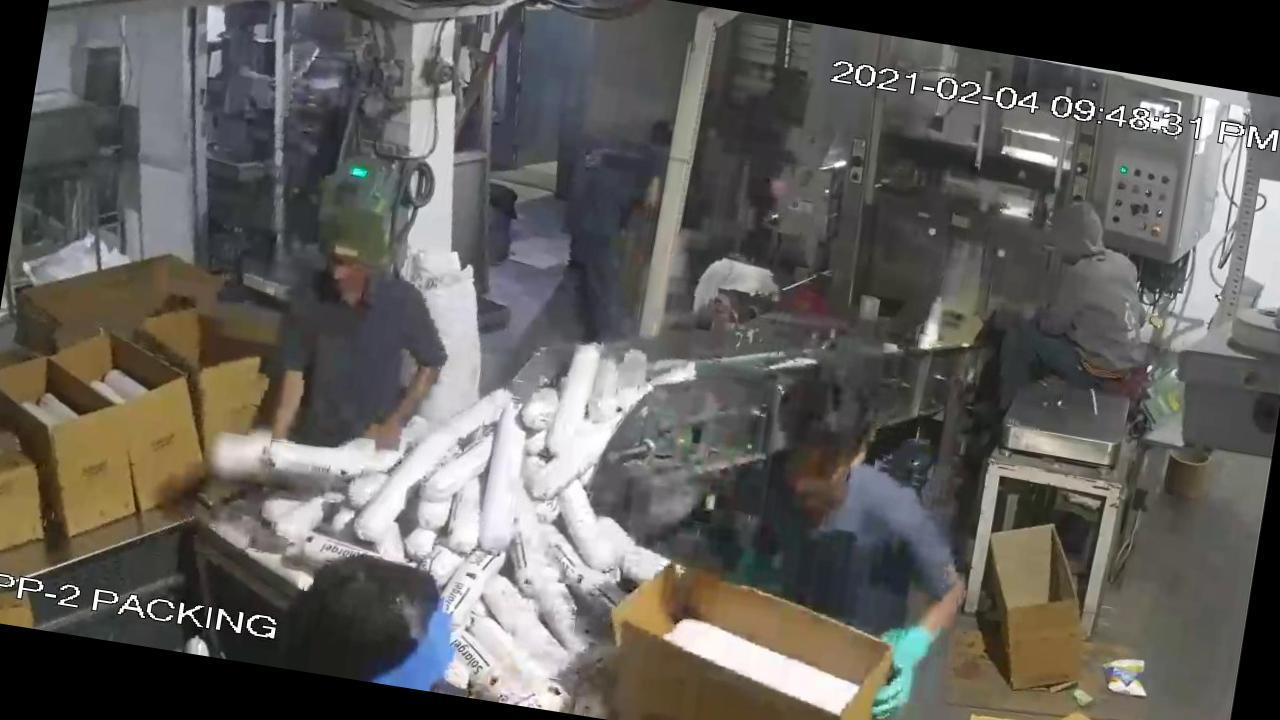Gloves: (850, 601, 959, 720)
No-gloves: (350, 330, 453, 471), (242, 348, 326, 474)
